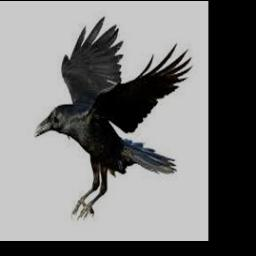Crow: (35, 17, 192, 218)
